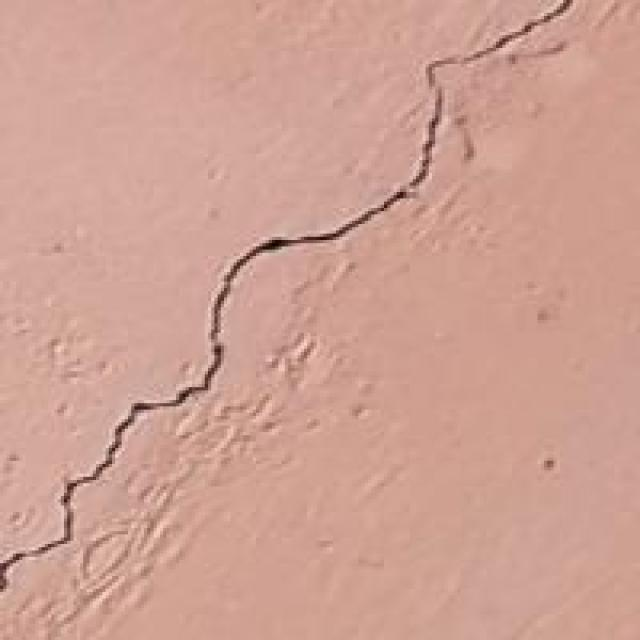crack: (0, 6, 573, 576)
